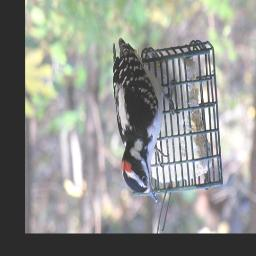Woodpecker: (113, 38, 179, 206)
